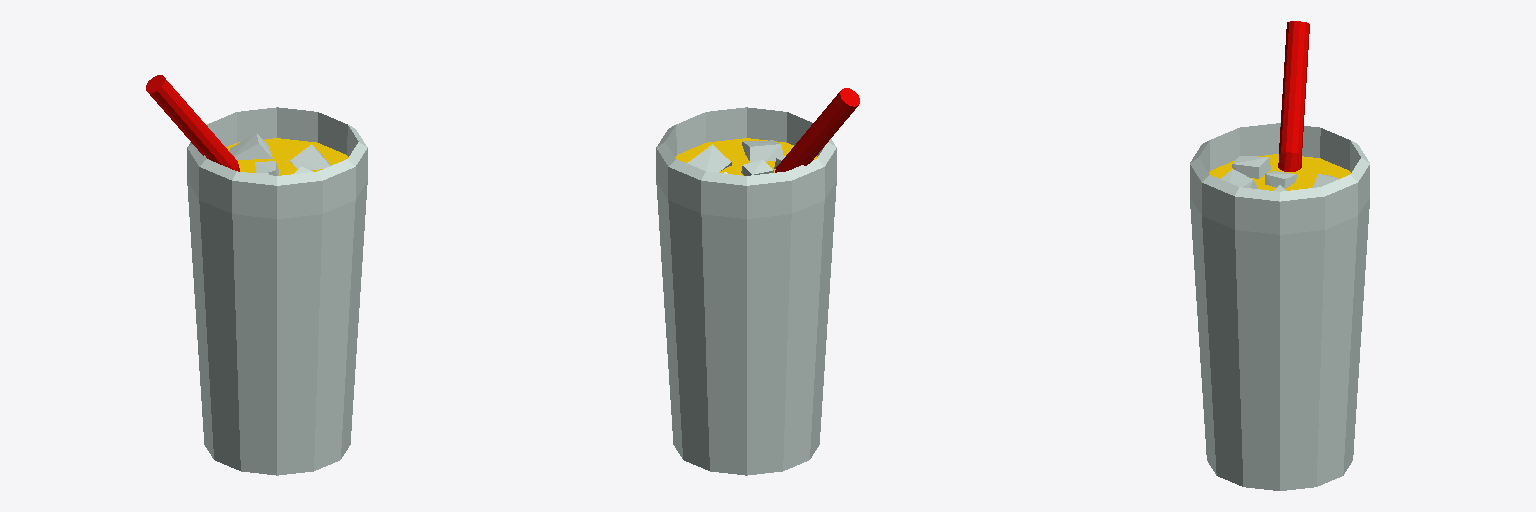
The picture shows the model from 3 angles: view 1: azimuth 30°, elevation 25°; view 2: azimuth 150°, elevation 25°; view 3: azimuth 270°, elevation 25°; orthographic projection.
Visible parts, largest first — view 1: group[number redacted], group[number redacted], group[number redacted], group[number redacted], group[number redacted]; view 2: group[number redacted], group[number redacted], group[number redacted], group[number redacted], group[number redacted]; view 3: group[number redacted], group[number redacted], group[number redacted], group[number redacted].
Part boxes in pixels (bbox=[...]): group[number redacted]: bbox=[187, 107, 367, 475]; group[number redacted]: bbox=[146, 75, 239, 171]; group[number redacted]: bbox=[226, 138, 348, 175]; group[number redacted]: bbox=[229, 133, 272, 159]; group[number redacted]: bbox=[290, 144, 330, 169]; group[number redacted]: bbox=[656, 107, 836, 475]; group[number redacted]: bbox=[775, 88, 859, 172]; group[number redacted]: bbox=[675, 138, 817, 175]; group[number redacted]: bbox=[742, 140, 783, 162]; group[number redacted]: bbox=[687, 144, 731, 172]; group[number redacted]: bbox=[1190, 123, 1369, 490]; group[number redacted]: bbox=[1278, 21, 1309, 171]; group[number redacted]: bbox=[1209, 154, 1350, 190]; group[number redacted]: bbox=[1232, 156, 1270, 178].
Size of the model in its own units: 0.6882 by 1.28 by 0.54.